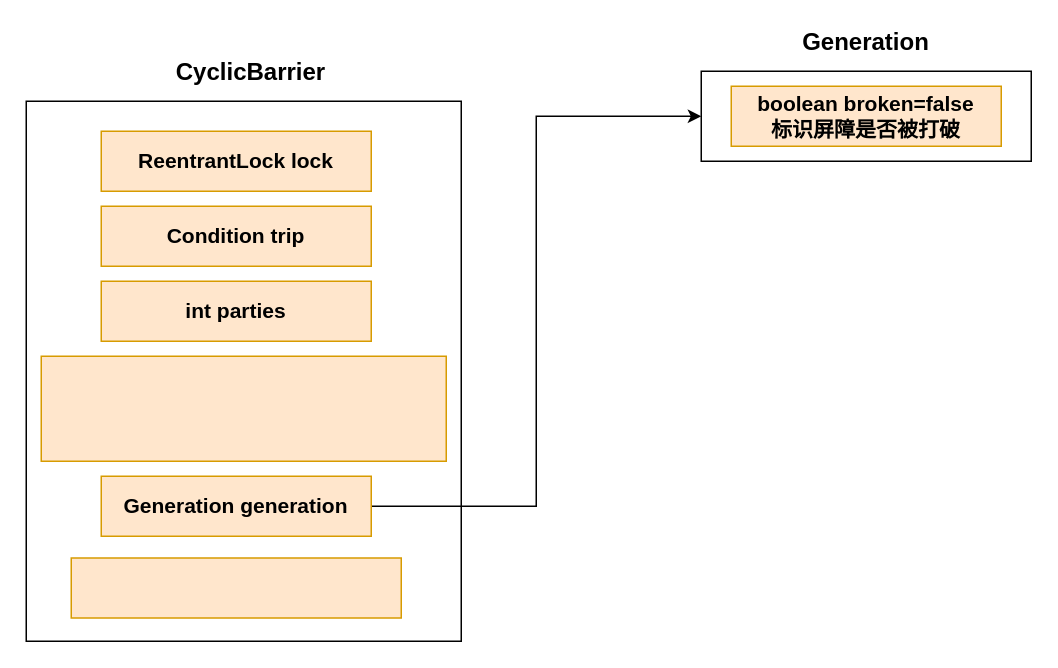
The diagram is 1058 pixels wide and 668 high, and some of its shapes have lost their labels. The box of each missing label's shape, as (x1, y1, x2, y2) in pixels:
int count 当前剩余的parties count一开始=parties 每当一个线程在屏障阻塞，count就-1: (40, 355, 446, 461)
Runnable barrierCommand: (70, 556, 401, 618)
